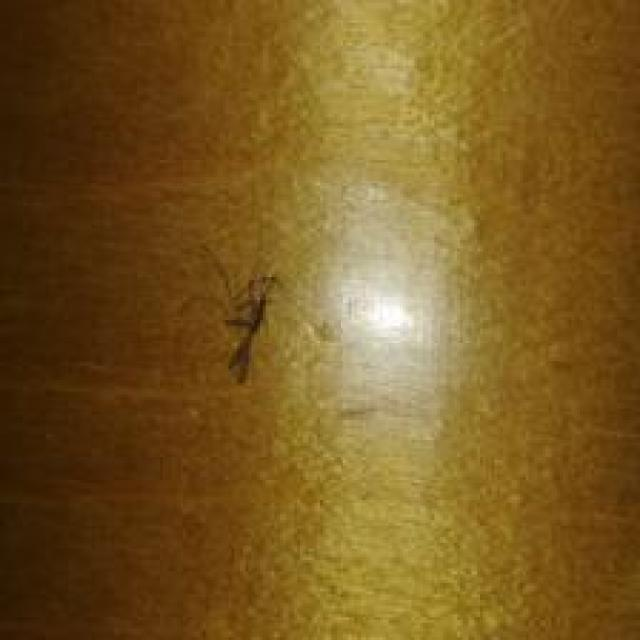Culex: (198, 243, 282, 386)
